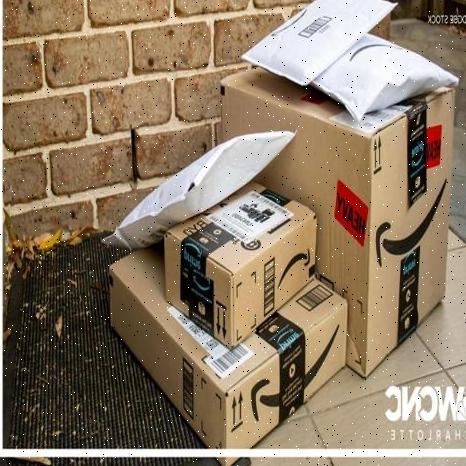Amazon: (213, 57, 451, 376), (110, 234, 347, 466), (154, 178, 324, 340), (100, 127, 308, 244), (311, 29, 461, 119), (255, 0, 392, 94)
